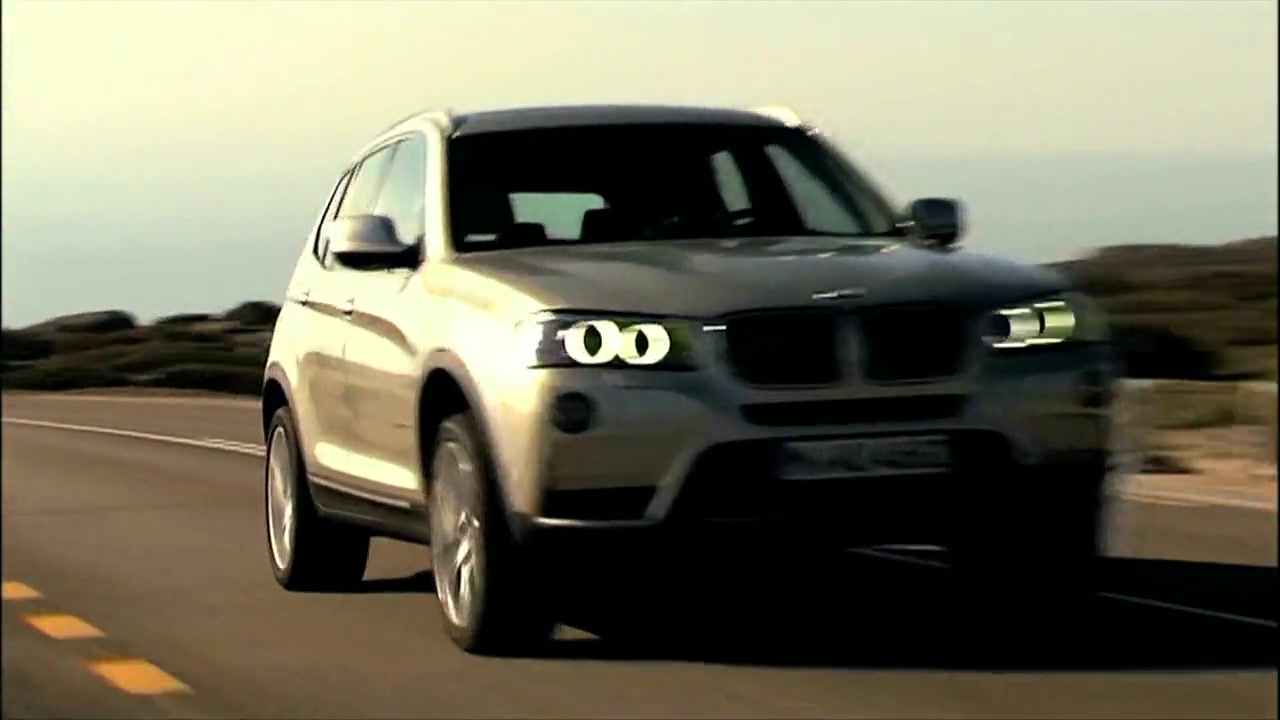car: (261, 100, 1122, 658)
